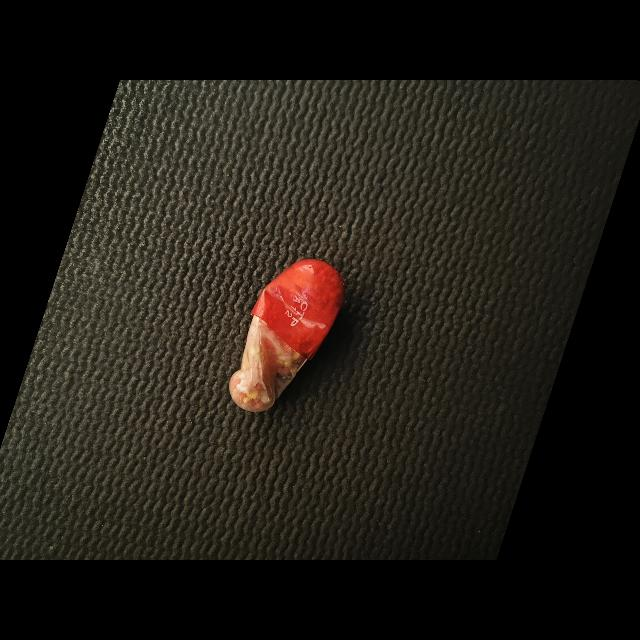Defective Capsule: (229, 259, 345, 412)
